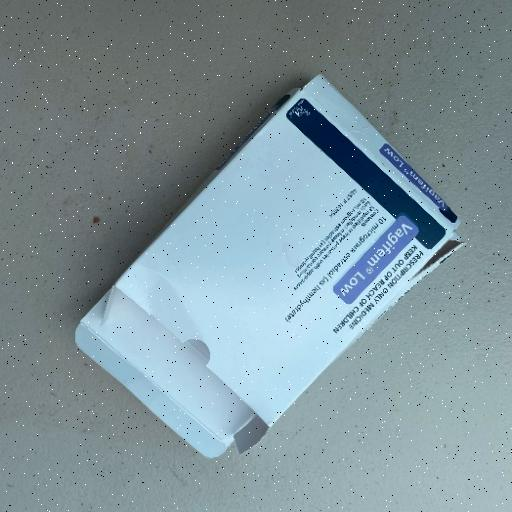Cardboard: (73, 72, 465, 460)
